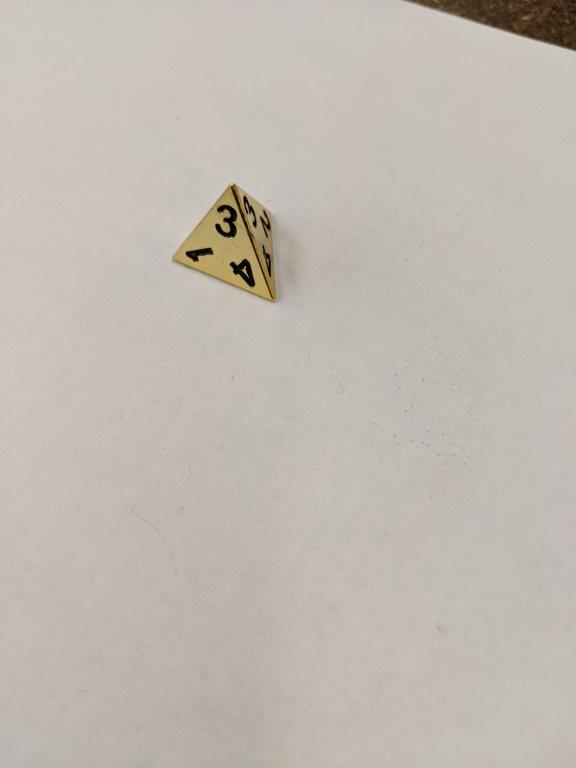d4-3: (166, 179, 283, 309)
